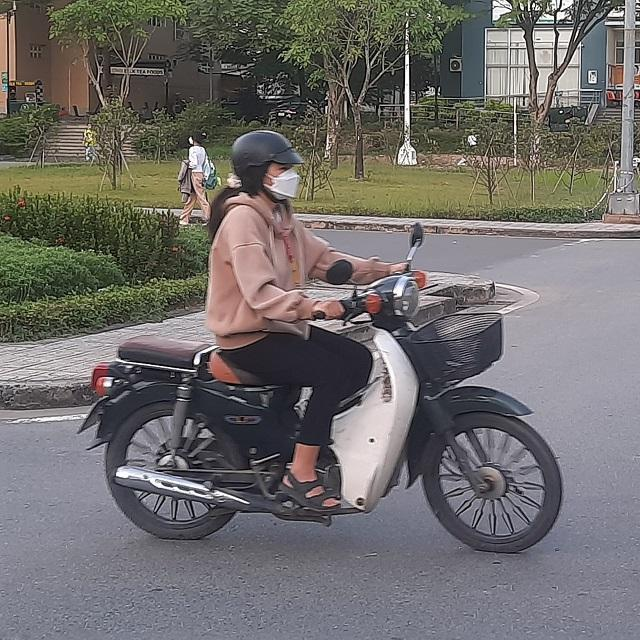Helmet: (230, 131, 306, 205)
